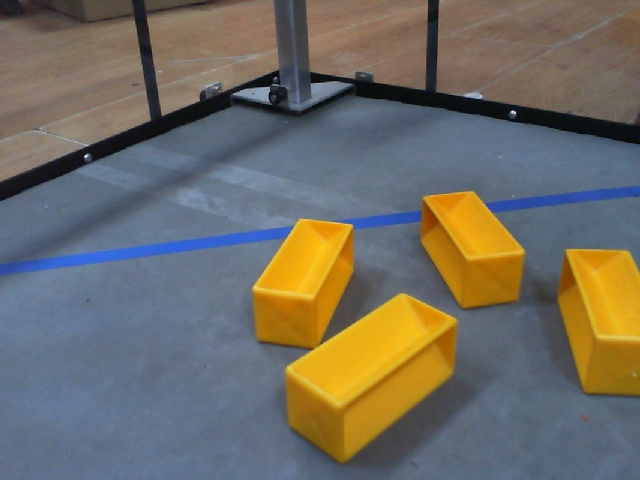YellowSample: (278, 287, 461, 468), (249, 215, 359, 351), (550, 241, 640, 401), (414, 187, 527, 306)
